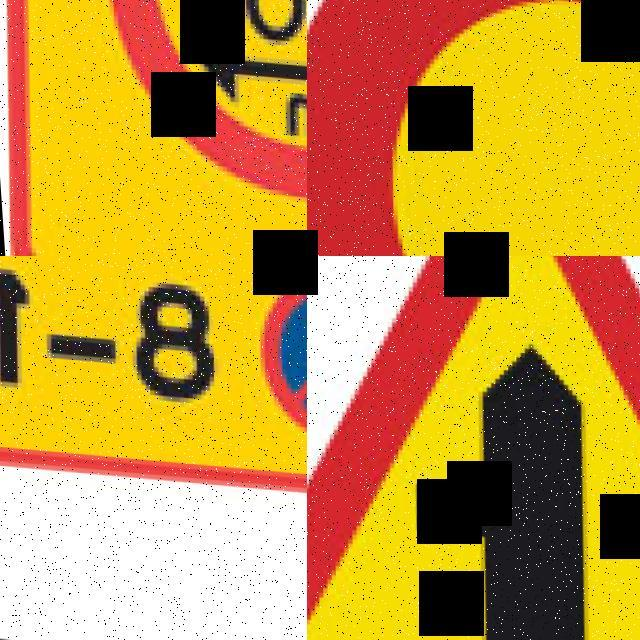166: (307, 256, 640, 640)
181: (0, 256, 307, 502)
40: (307, 0, 640, 256)
No vehicles exceeding length shown: (0, 0, 307, 256)
